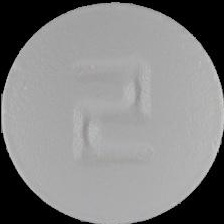55111-169: (0, 0, 224, 224)
